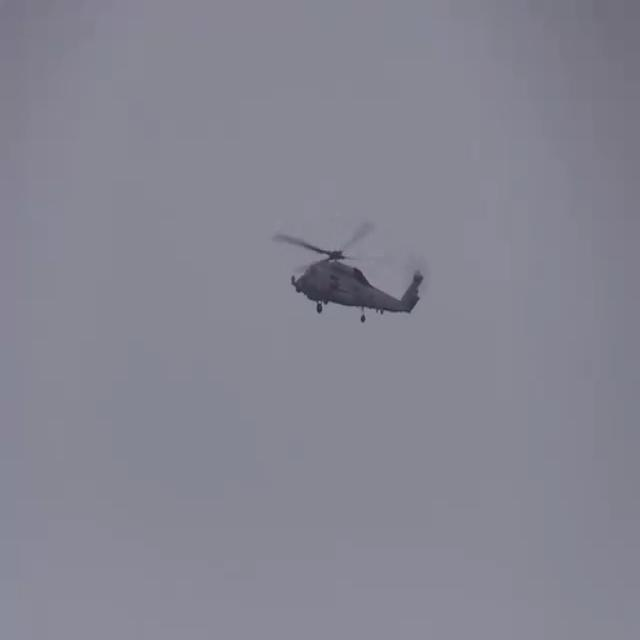Helicopter: (252, 192, 444, 336)
